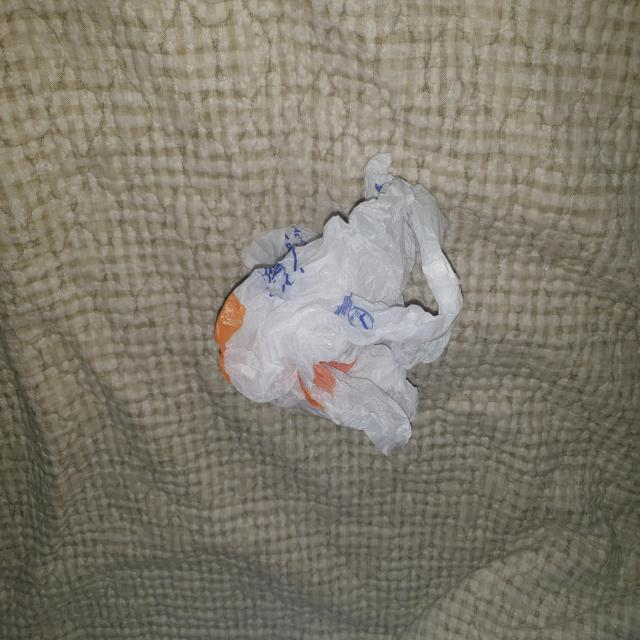plastic bag: (211, 151, 463, 456)
